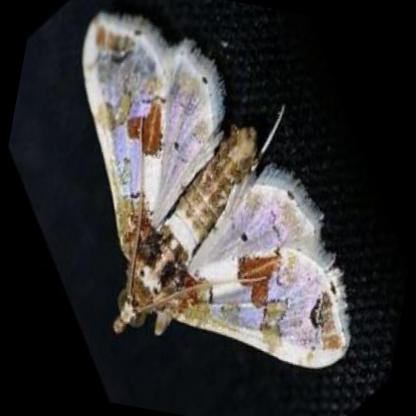leucinodes: (83, 10, 350, 367)
